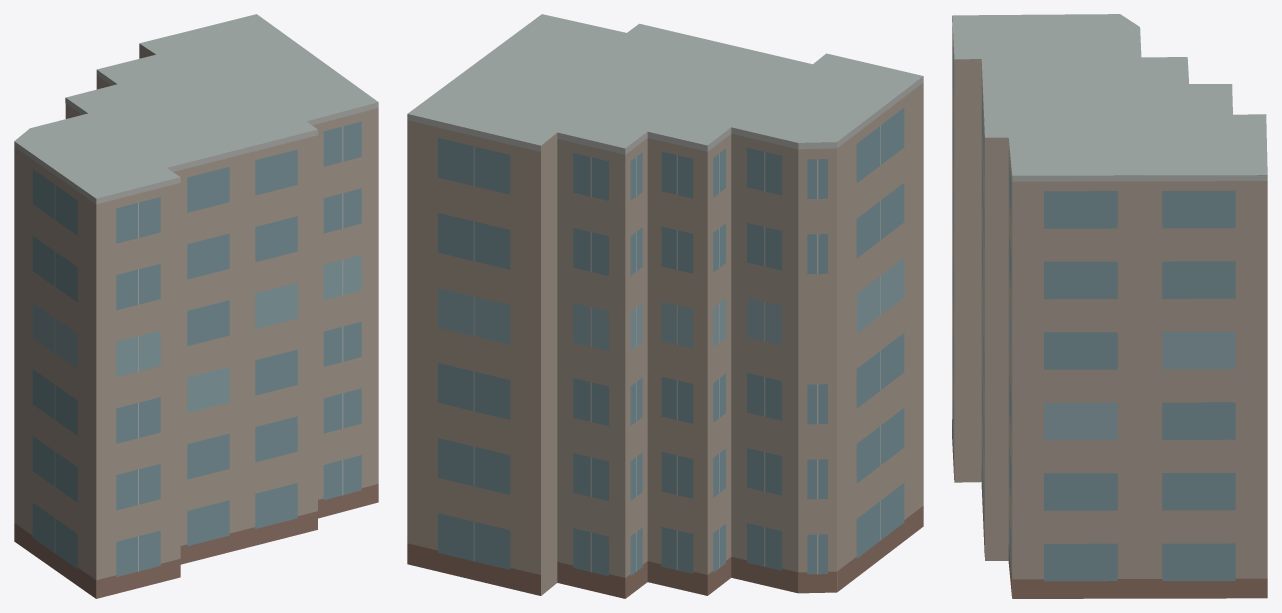
The model's file is survey-upis-32968801.glb.
3 renders of one model, left to right at view 1: azimuth 30°, elevation 25°; view 2: azimuth 150°, elevation 25°; view 3: azimuth 270°, elevation 25°, orthographic. The views are drawn at different scales.
Parts seen in each view (by area): view 1: survey-upis-32968801.tmp; view 2: survey-upis-32968801.tmp; view 3: survey-upis-32968801.tmp.
Part boxes in pixels (x1,y1,x2,y2): survey-upis-32968801.tmp: (14,14,378,598); survey-upis-32968801.tmp: (407,14,923,598); survey-upis-32968801.tmp: (952,14,1267,598).
Size of the model in its own units: 14.27 by 17.4 by 11.77.
